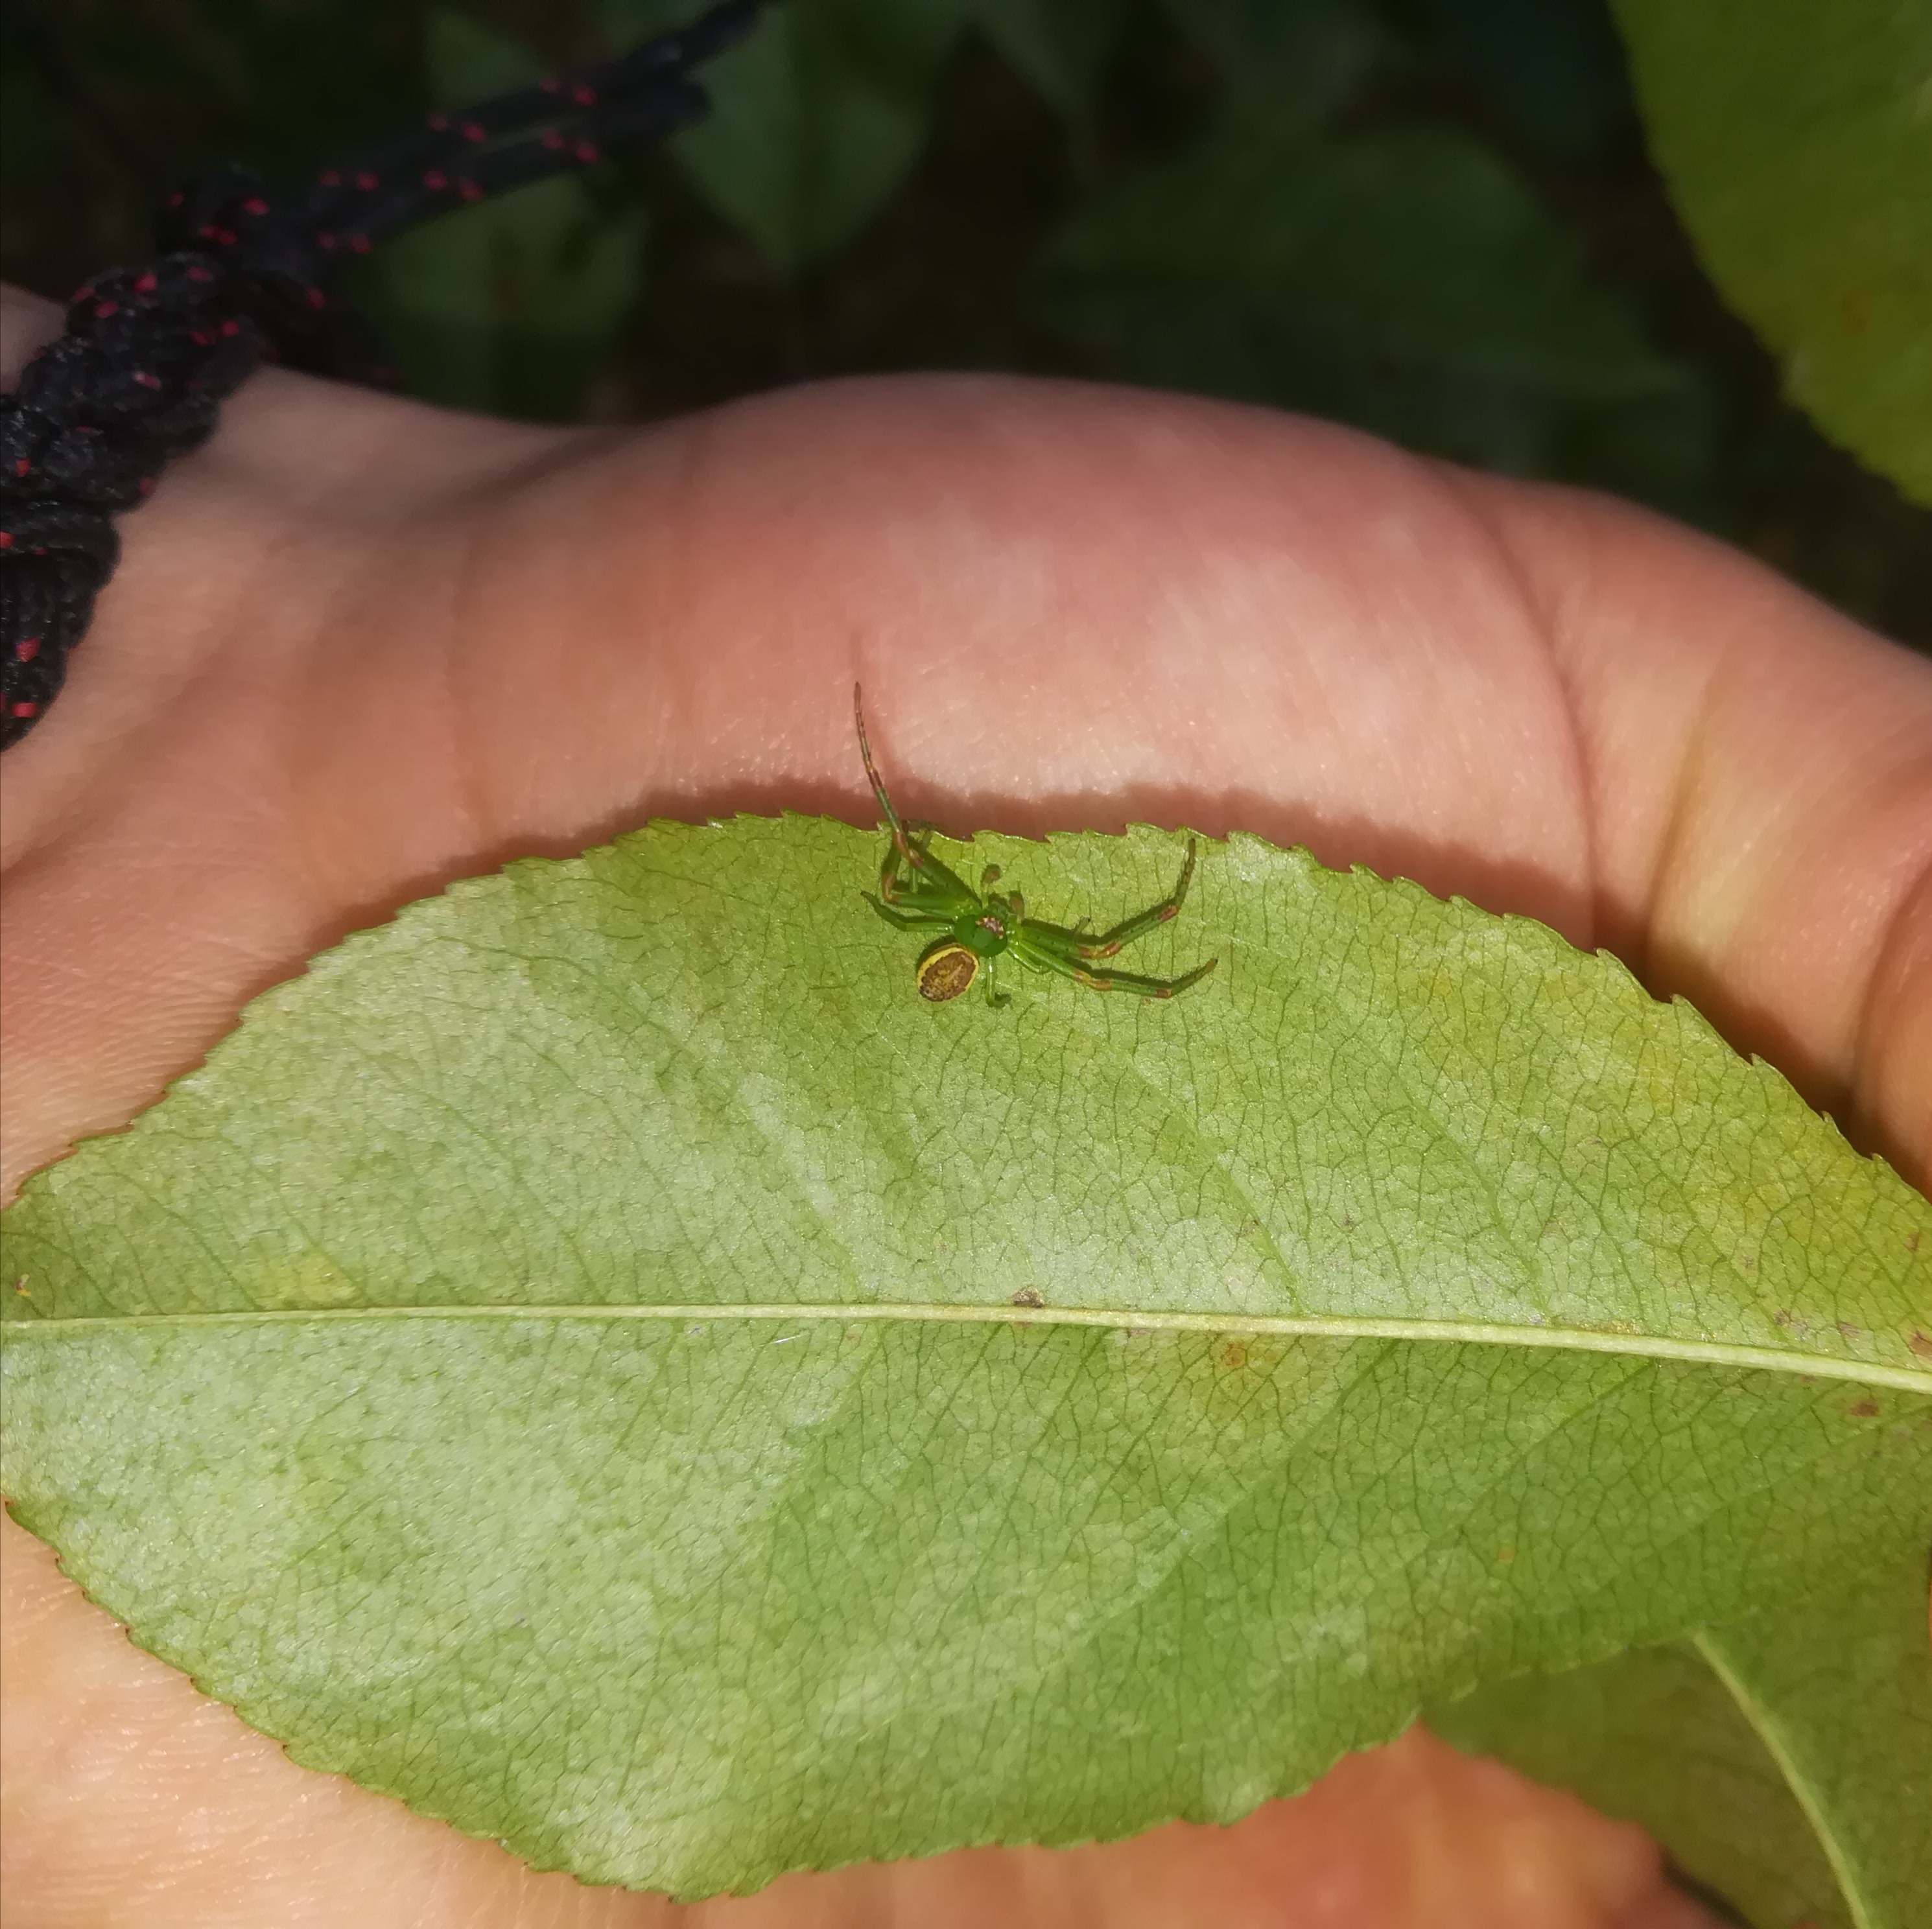spider: (781, 661, 1259, 1102)
